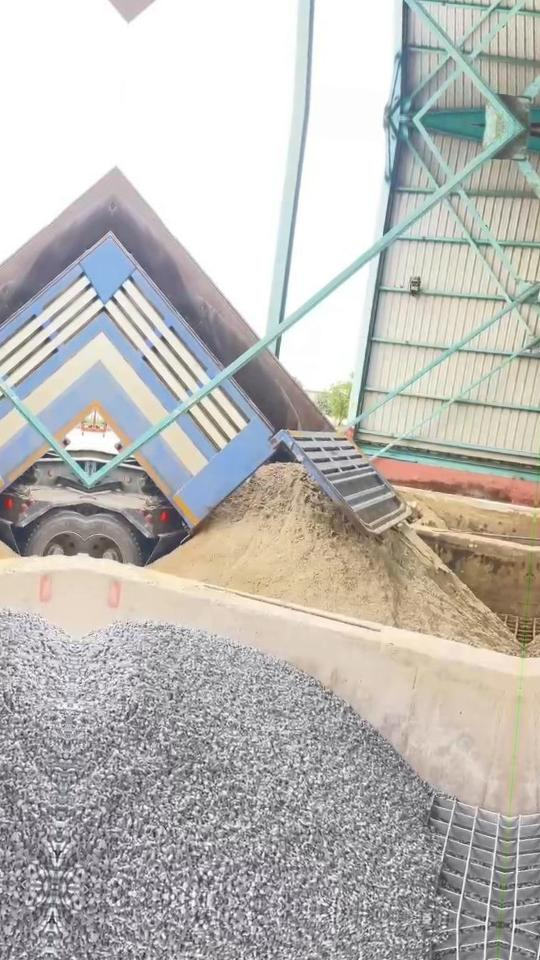gravel: (56, 622, 446, 919)
sand: (153, 463, 518, 653), (409, 499, 447, 528)
